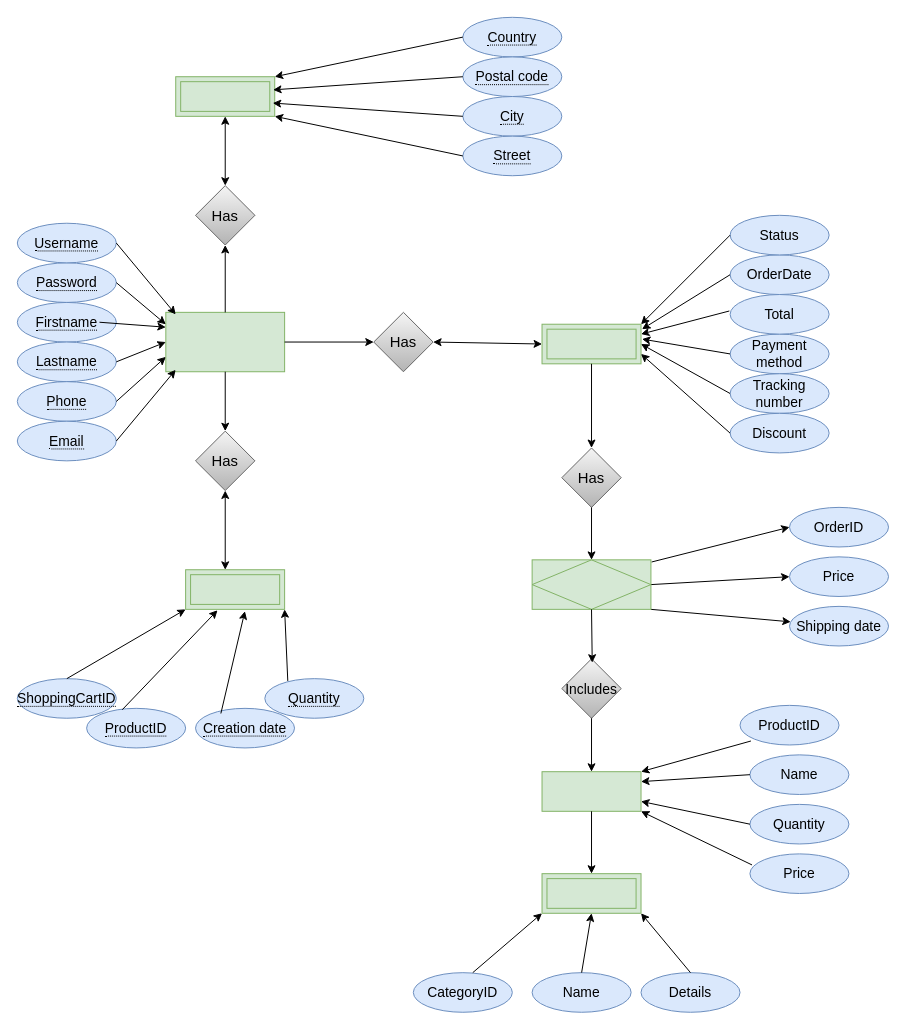
Some shapes in this 906 by 1030 pixel diagram are drawn without their labels. Each missing label, with the centre of its shape:
Address: the point at 225,96
Category: the point at 591,893
Order: the point at 591,343
OrderInfo: the point at 591,584
Product: the point at 591,791
ShoppingCart: the point at 235,589
User (you): the point at 225,341
